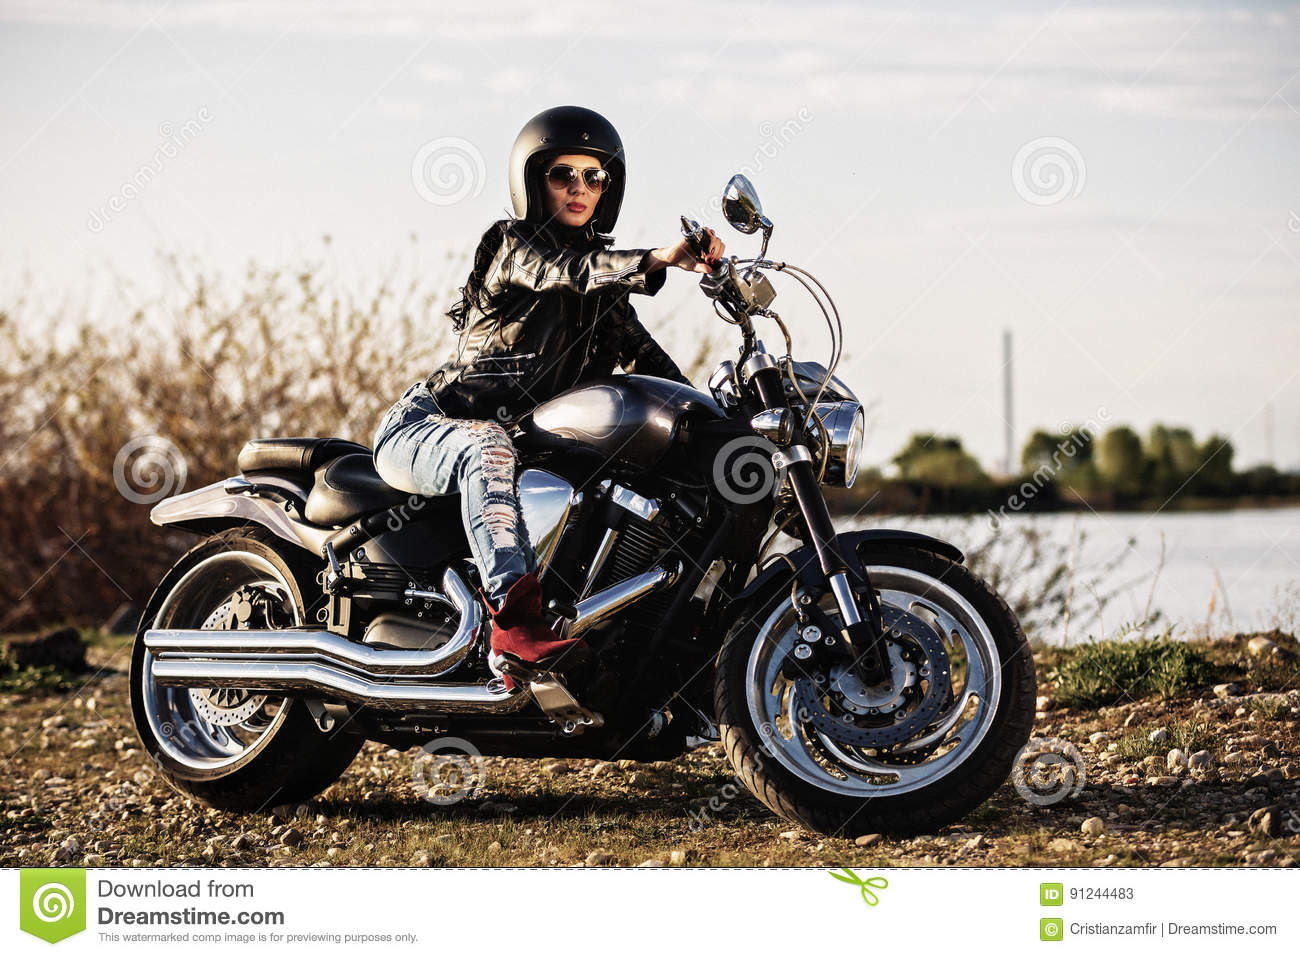helmet: (505, 102, 630, 213)
